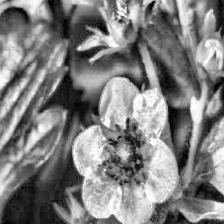Blossom Blight: (101, 116, 154, 191)
